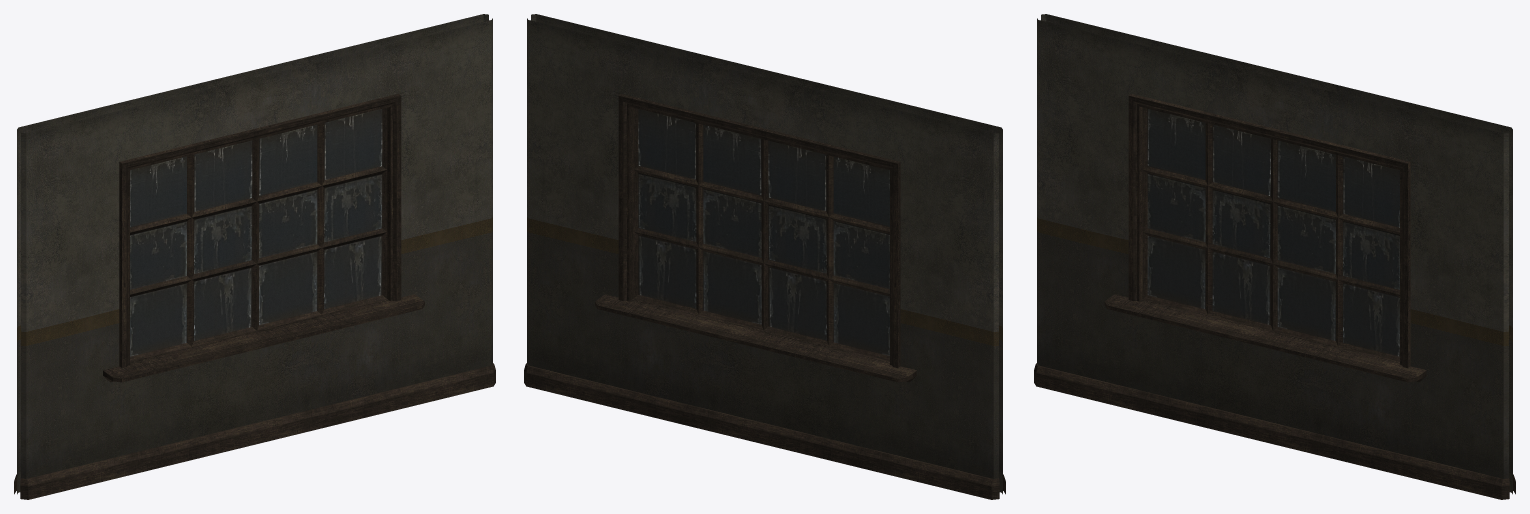
The model's file is window_2_double.obj.
The picture shows the model from 3 angles, left to right: view 1: azimuth 30°, elevation 25°; view 2: azimuth 150°, elevation 25°; view 3: azimuth 330°, elevation 25°; orthographic projection.
Visible parts, largest first — view 1: window_2_double; view 2: window_2_double; view 3: window_2_double.
Boxes of the visible parts, x1,y1,x2,y2 form: window_2_double: (14,14,495,499); window_2_double: (524,14,1005,499); window_2_double: (1034,14,1515,499).
Bounding box in the file's own units: 4.09 × 3 × 0.52.
